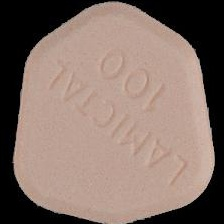0173-0642: (0, 0, 224, 224)
